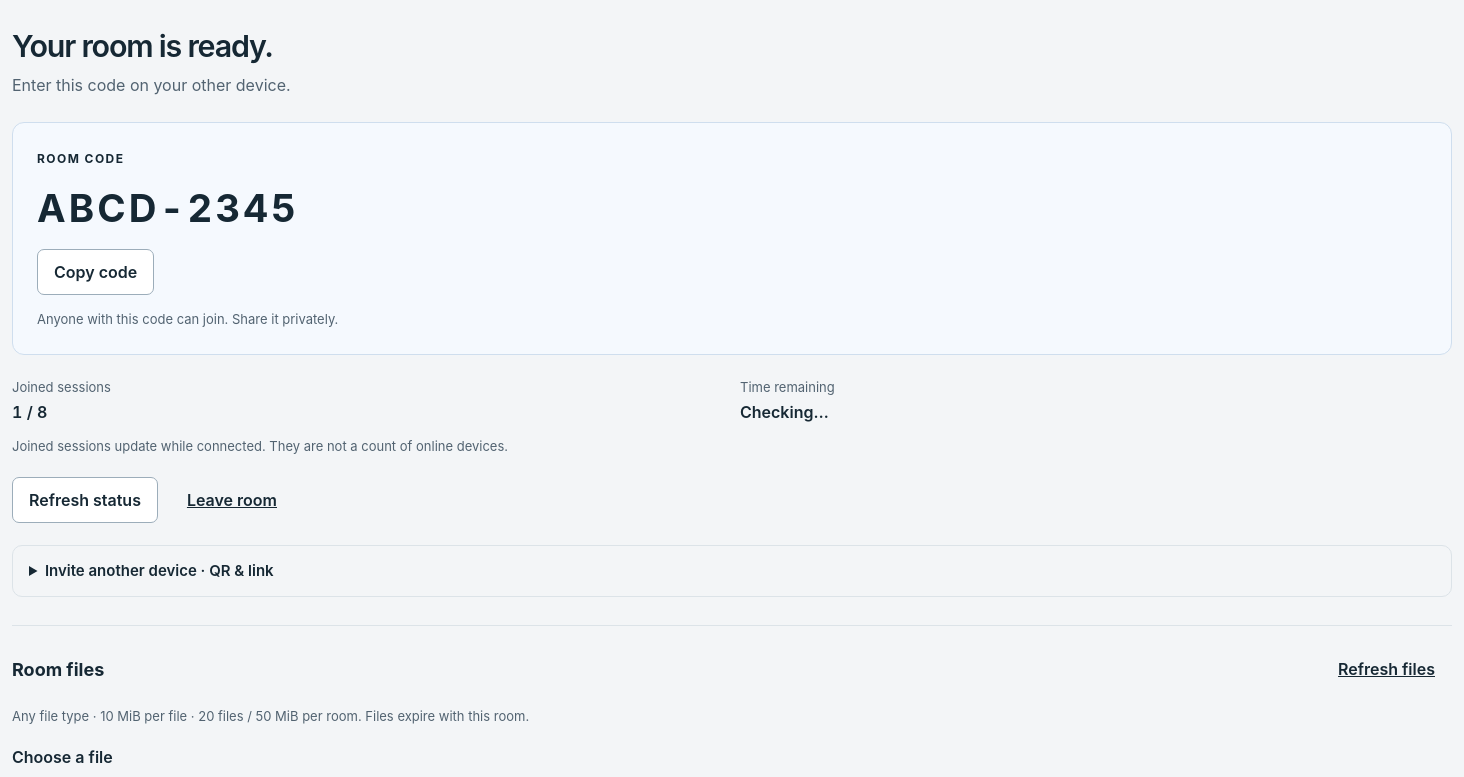
Scenario: failed leave preserves membership so the user can retry
Expected: the text "1 / 8" is shown, [12, 402, 47, 422]
Click the button "Leave room". click: (232, 500)
box: [170, 477, 294, 523]
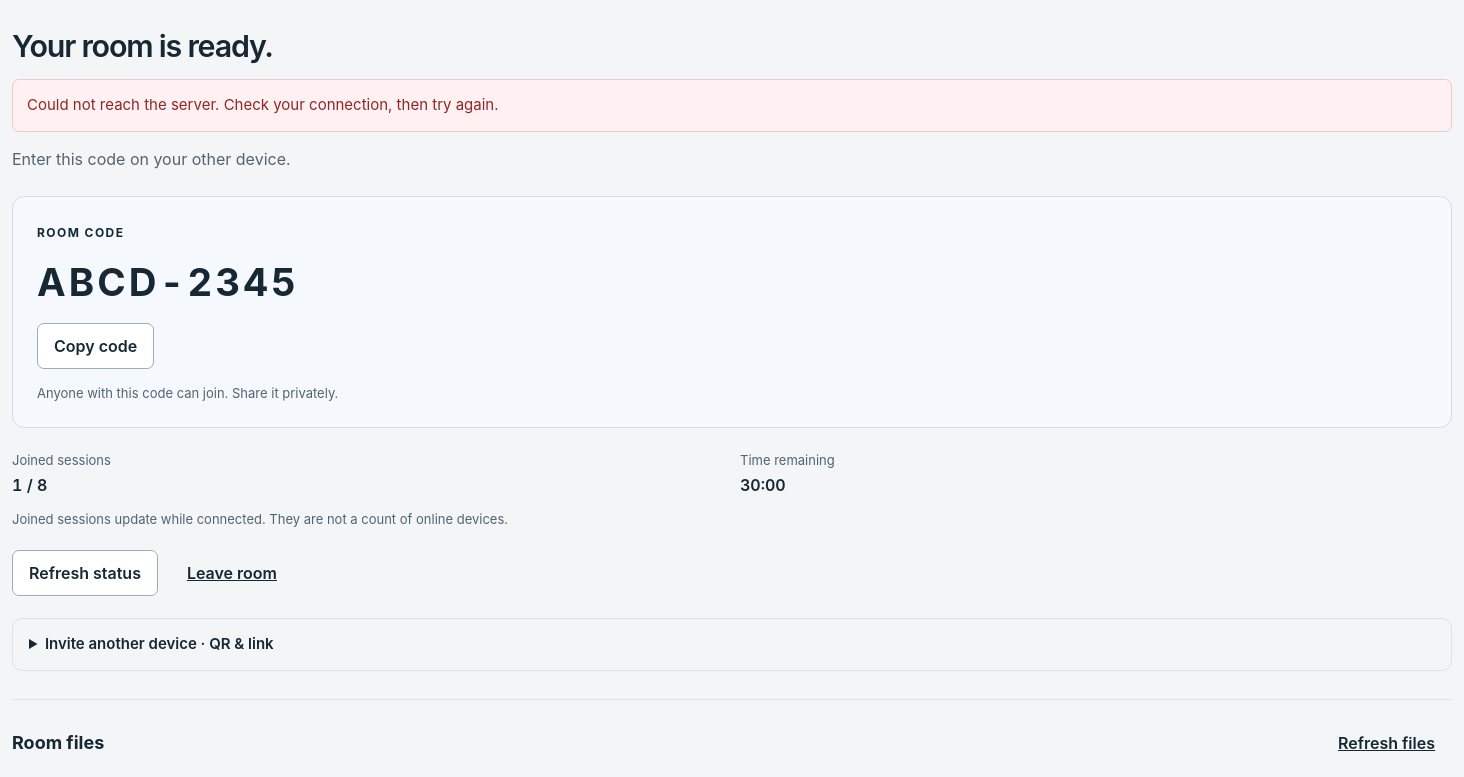
Expected: the text "ABCD-2345" is shown, [37, 258, 299, 304]
Now the message "Could not reach the server. Check your connection, then try again." is shown, box [12, 79, 1452, 132]
